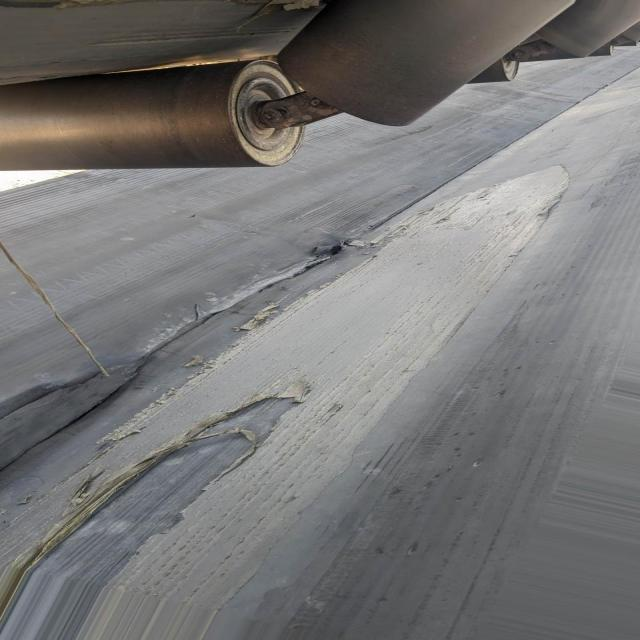Roller: (269, 0, 584, 133), (0, 57, 300, 172)
Tear: (4, 243, 380, 530), (49, 397, 298, 577)
